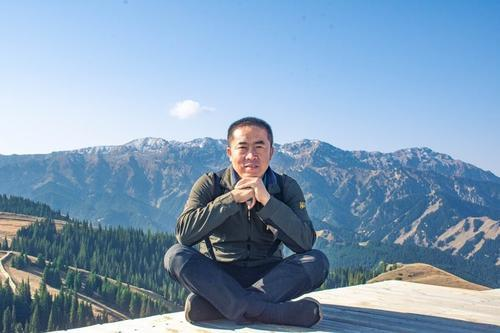bending: (165, 105, 338, 333)
